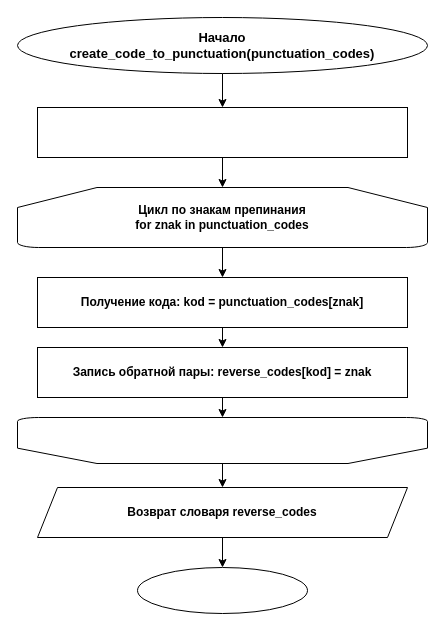
Image size: 445x631. Some labels were removed from this diagram. Here are the shapes that lost their labels. From the top down, the centre of each, then its label:
(222,132): Создание пустого словаря reverse_codes
(222,440): Цикл по знакам препинания
(222,590): Конец
